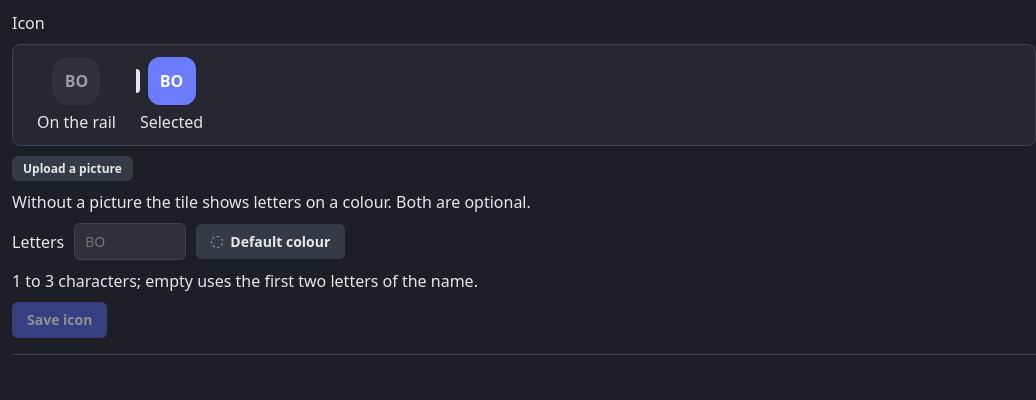
Test: the letters › say when saving failed, and stay editable
Step 1. Type "ab" into the field labelled "Letters" → [130, 242], box [74, 223, 186, 260]
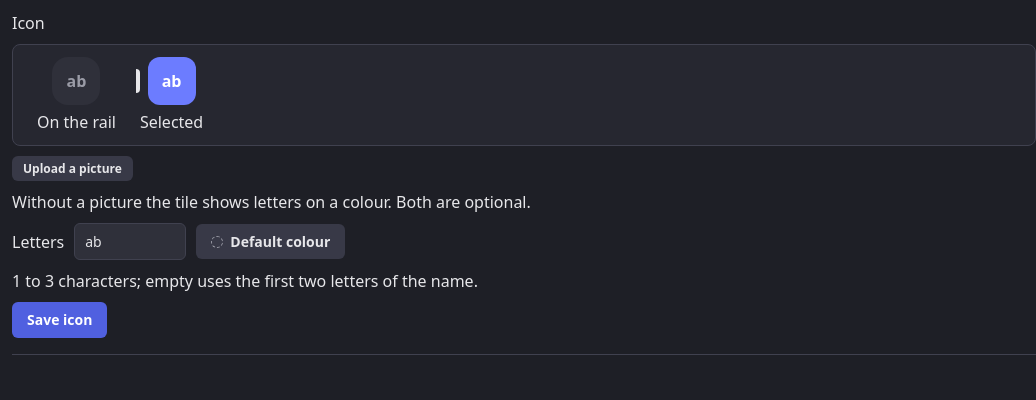
Step 2. Click the button "Save icon" → [60, 320], box [12, 302, 107, 338]
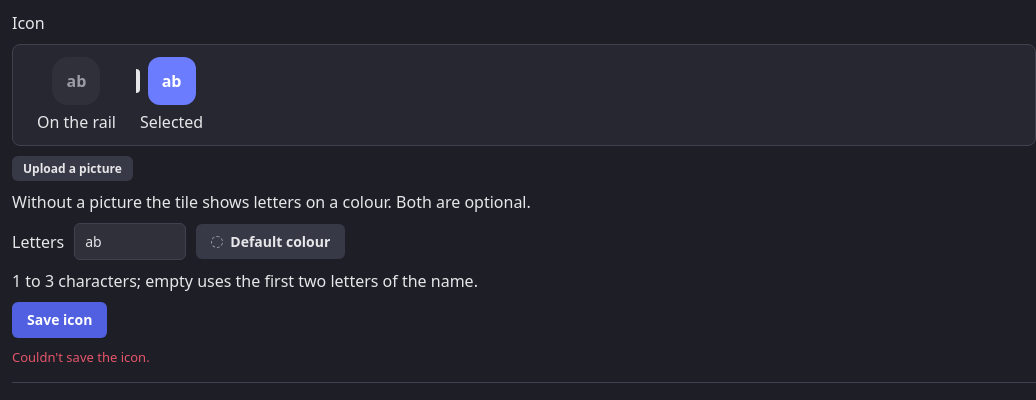
Expected: the button "Save icon" is enabled, [12, 302, 107, 338]
Expected: the message reads "Couldn't save the icon.", [12, 348, 150, 366]
